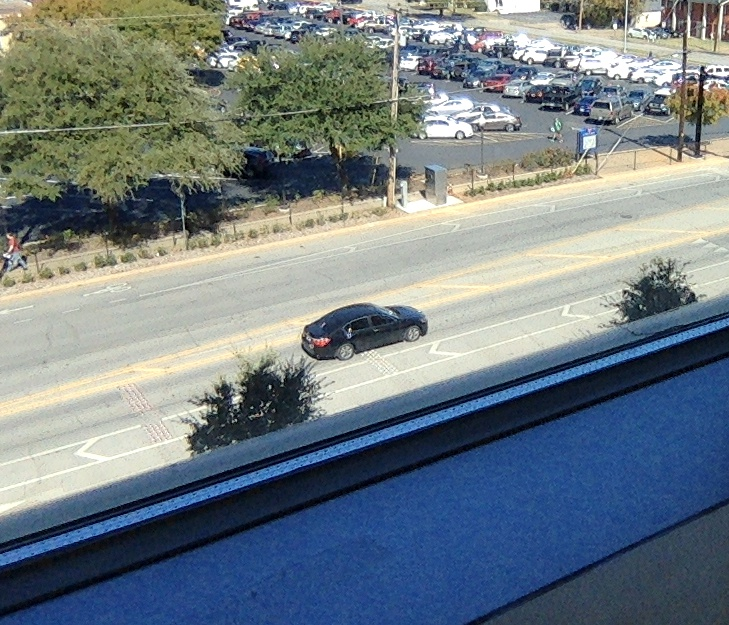car: (300, 300, 429, 364)
